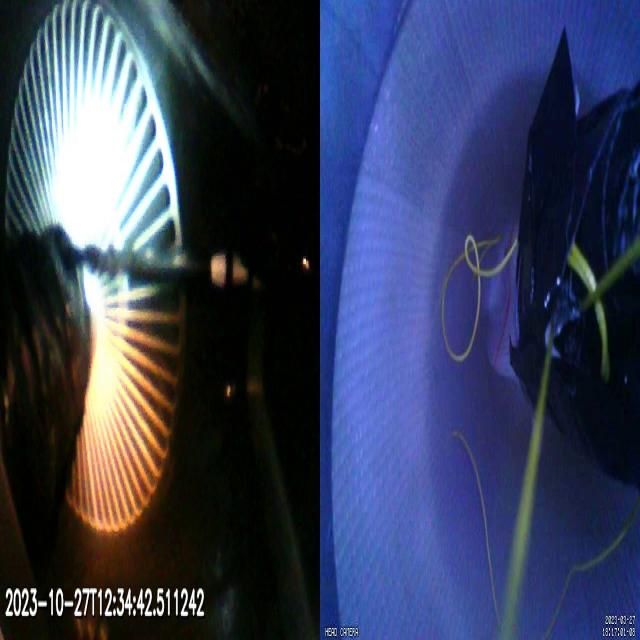white-dots: (209, 252, 261, 302)
